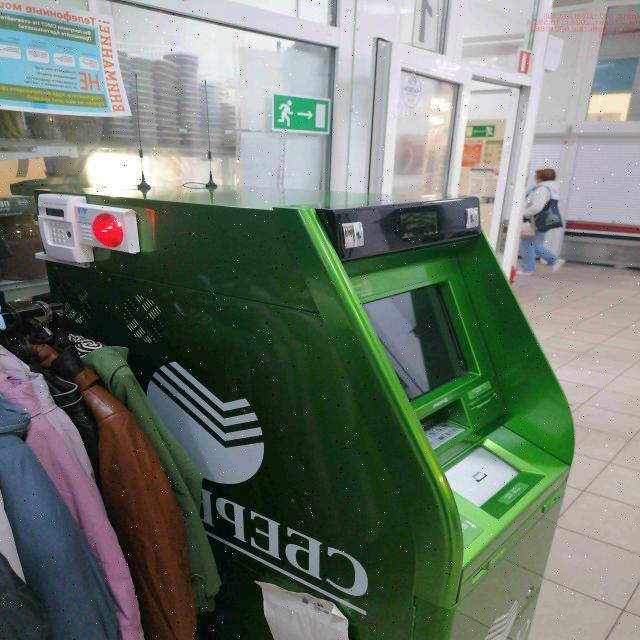bank: (36, 190, 577, 640)
